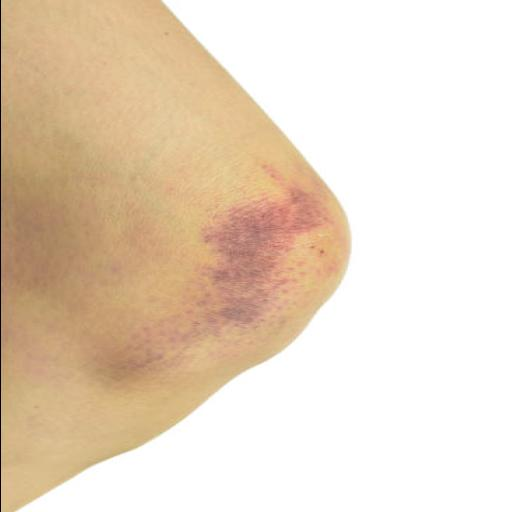bruises: (249, 218, 287, 270)
